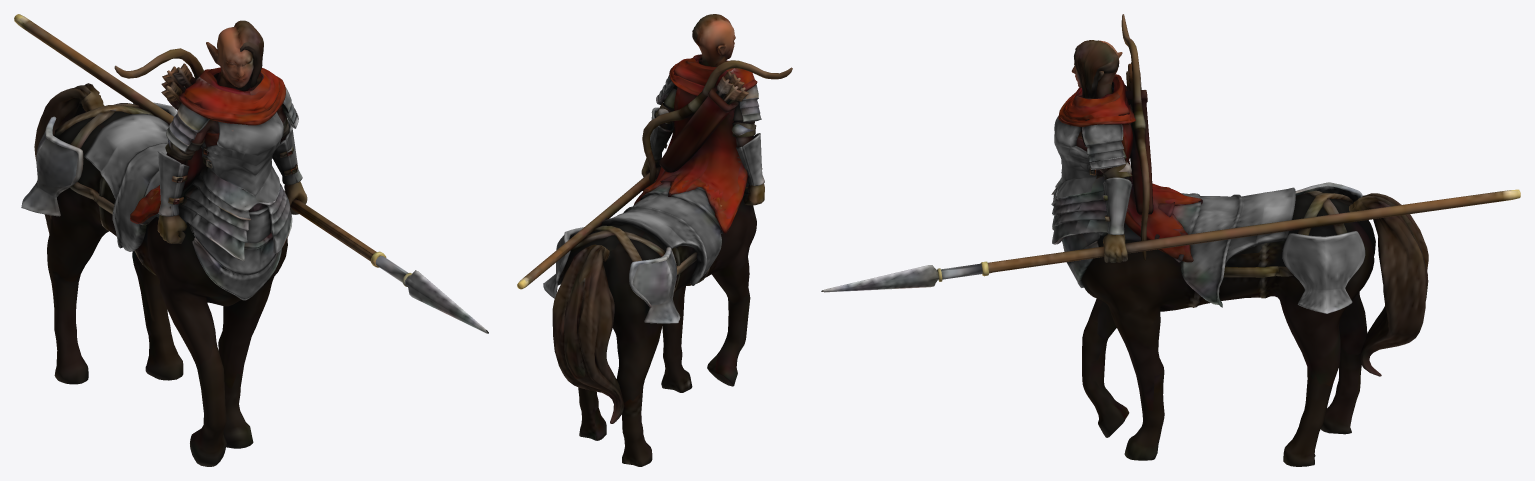
File: MZ4250 - Centaur Trooper Female _2025_2.glb
The picture shows the model from 3 angles, left to right: view 1: azimuth 30°, elevation 25°; view 2: azimuth 150°, elevation 25°; view 3: azimuth 270°, elevation 25°; orthographic projection. The views are drawn at different scales.
Visible parts, largest first — view 1: Centaur Female Trooper 2025.001; view 2: Centaur Female Trooper 2025.001; view 3: Centaur Female Trooper 2025.001.
Boxes of the visible parts, <box> form: Centaur Female Trooper 2025.001: <box>14,14,488,466</box>; Centaur Female Trooper 2025.001: <box>517,14,792,466</box>; Centaur Female Trooper 2025.001: <box>821,14,1520,466</box>.
Size of the model in its own units: 27.56 by 55.17 by 85.86.
1 material, 1 textured.
